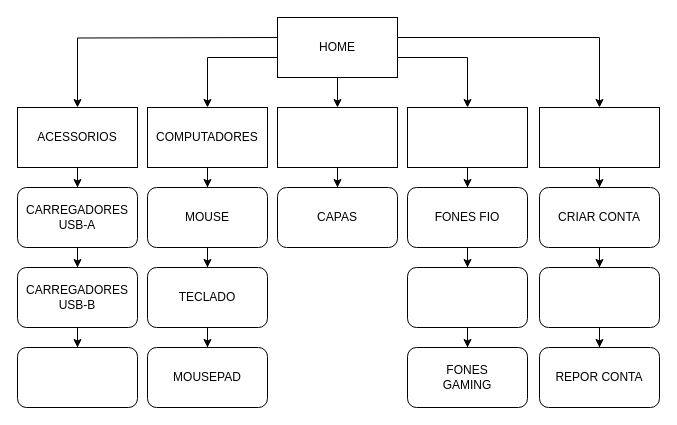
The diagram is 677 pixels wide and 425 high, and some of its shapes have lost their labels. The shapes that lost their labels are listed below. From the top down, each one's centre as x and y in pixels, then its label:
At [337,137]: "TELEMOVEIS".
At [467,137]: "FONES".
At [599,137]: "LOGIN".
At [467,297]: "FONES WIFI".
At [599,297]: "INICIAR CONTA".
At [77,377]: "CARREGADORES MICRO USB".
